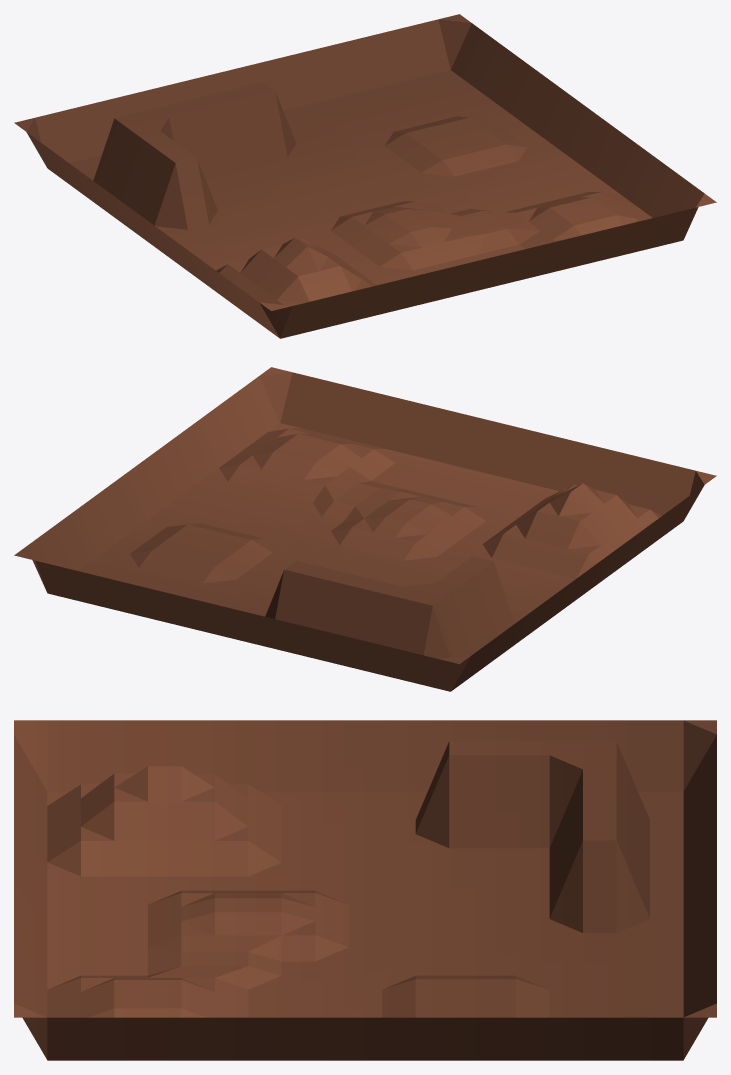
File: Terrain.obj
3 renders of one model, top to bottom at view 1: azimuth 30°, elevation 25°; view 2: azimuth 150°, elevation 25°; view 3: azimuth 270°, elevation 25°, orthographic. The views are drawn at different scales.
Visible parts, largest first — view 1: 平面; view 2: 平面; view 3: 平面.
Part boxes in pixels (bbox=[...]): 平面: bbox=[14, 14, 716, 338]; 平面: bbox=[14, 367, 716, 691]; 平面: bbox=[14, 720, 716, 1060].
Bounding box in the file's own units: 100 × 12.38 × 100.
